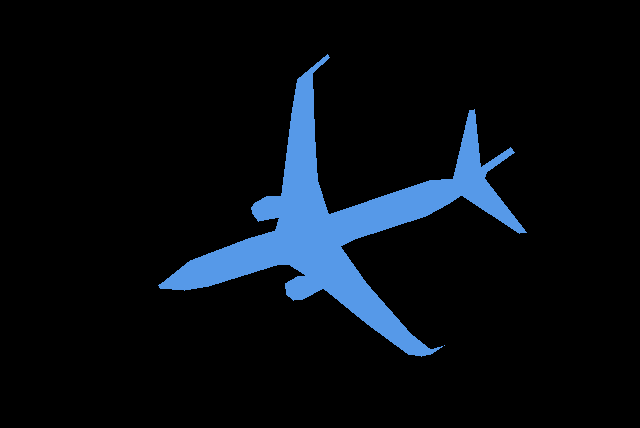Airplane: (158, 54, 526, 357)
